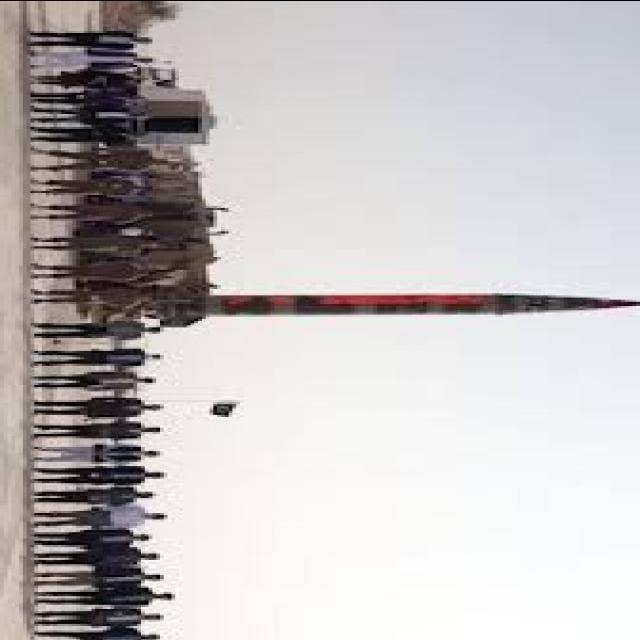Missile: (201, 285, 638, 329)
